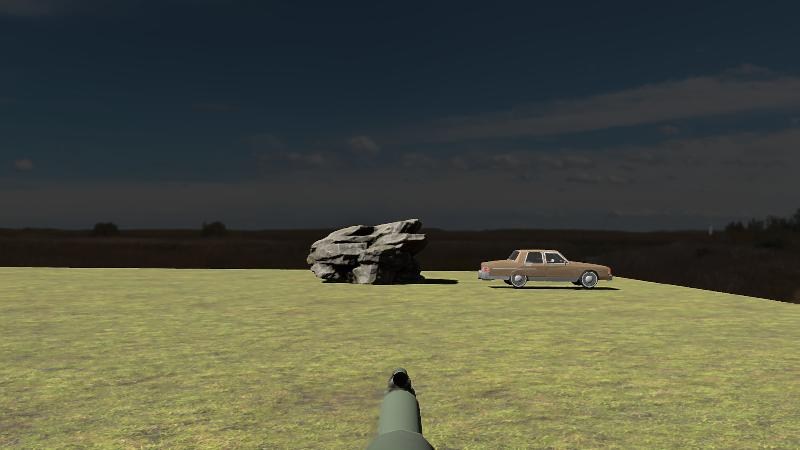car: (477, 248, 614, 290)
